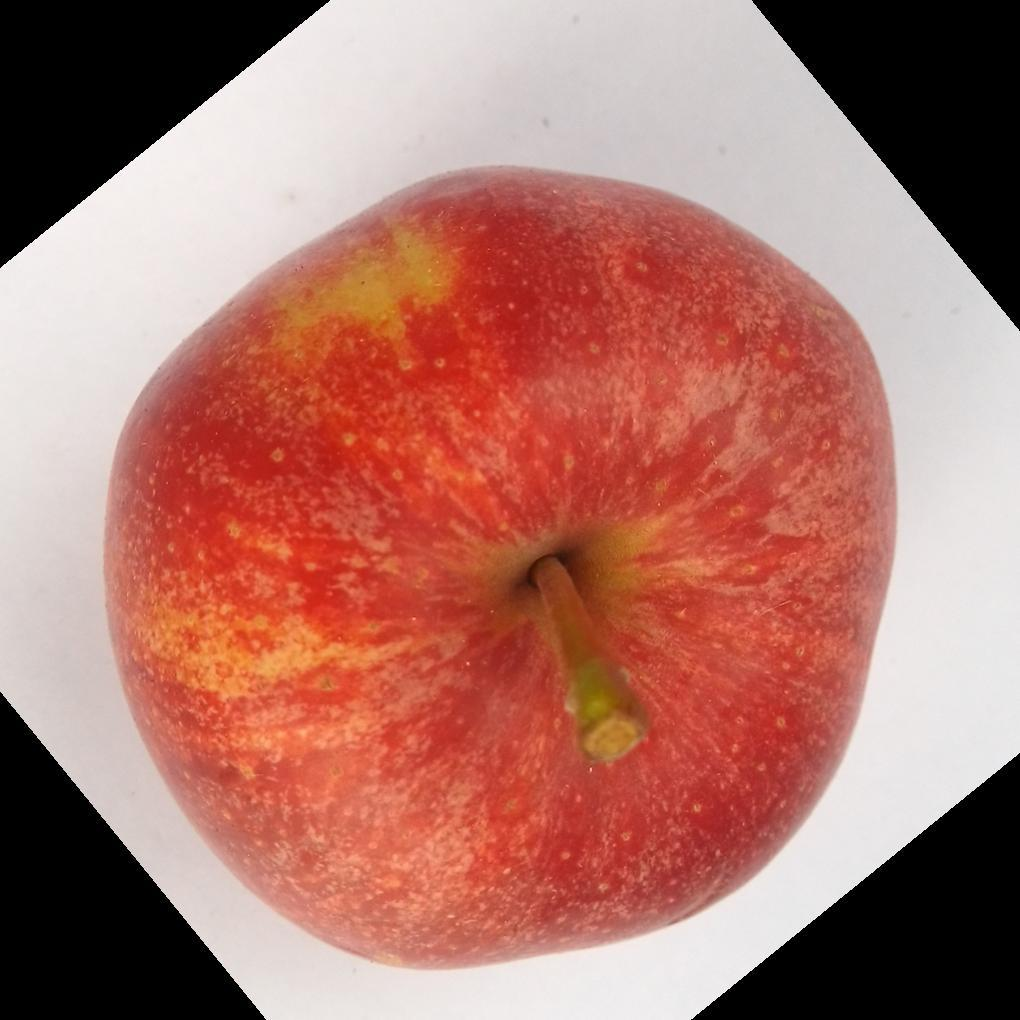FreshGuava: (97, 166, 898, 976)
